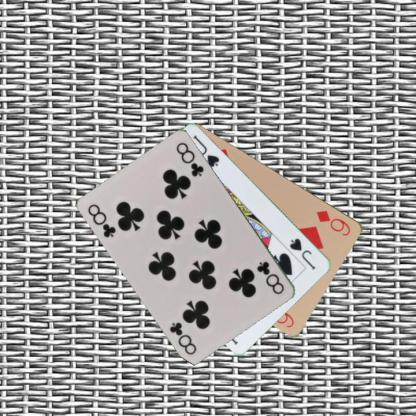6d: (314, 208, 352, 238)
8c: (254, 258, 286, 298), (85, 201, 118, 239)
Js: (287, 235, 318, 272)
